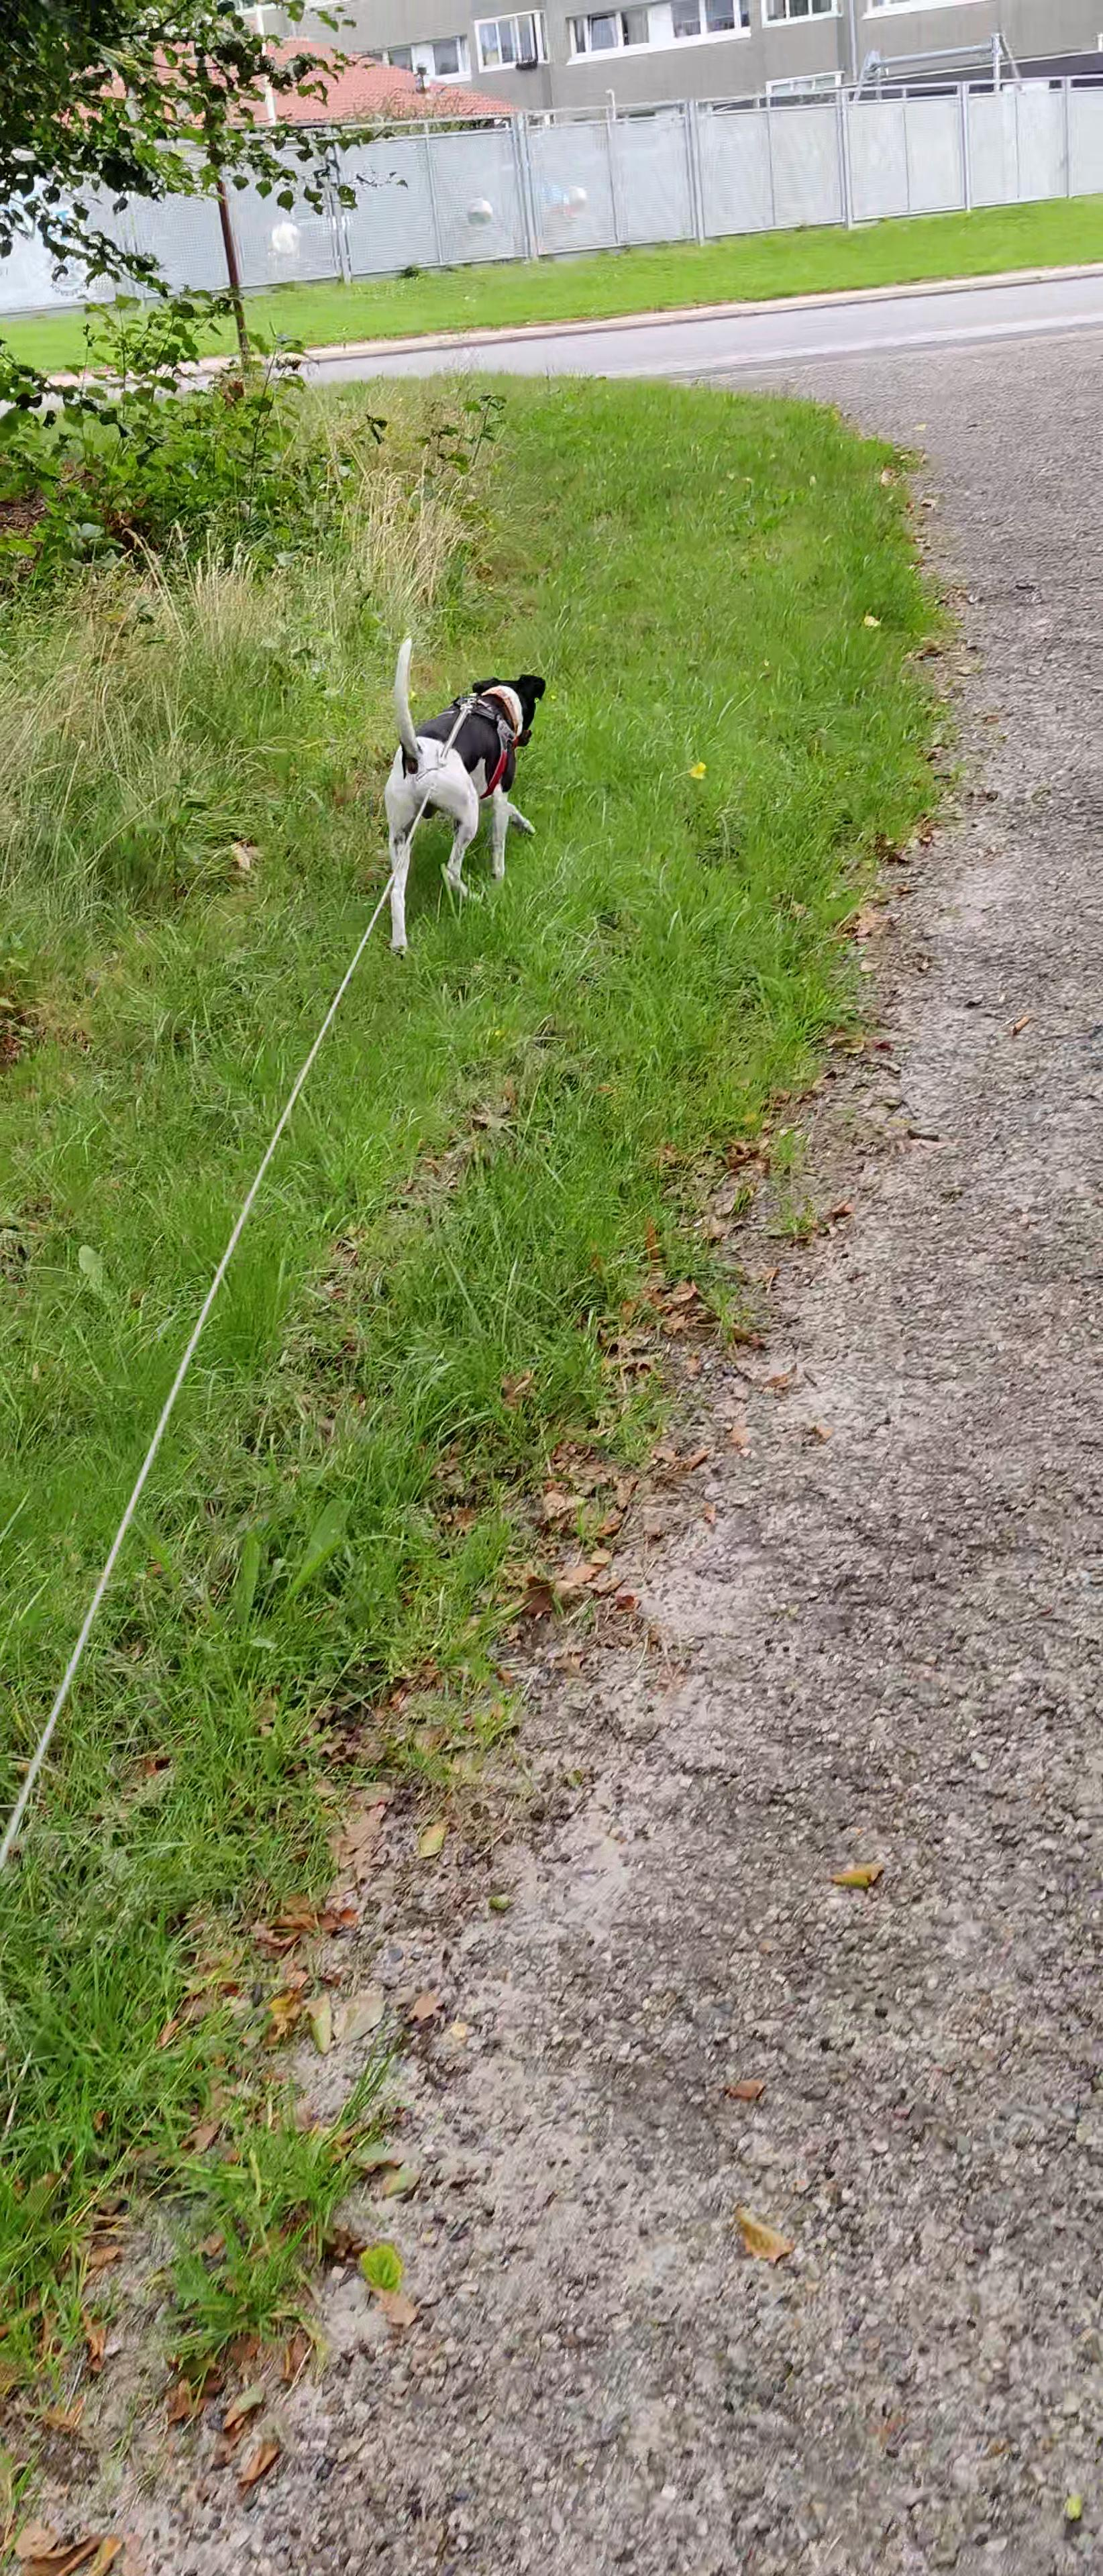Dog: (339, 613, 579, 966)
